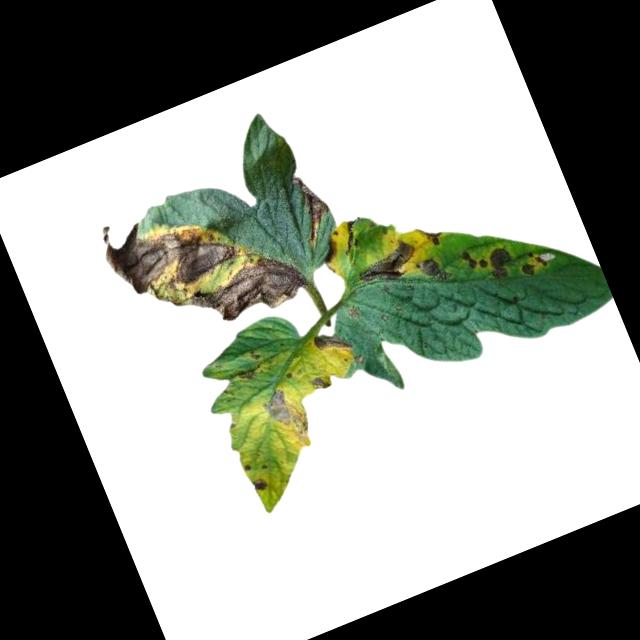Early_blight: (93, 179, 251, 306), (165, 237, 312, 345), (350, 233, 423, 292), (286, 169, 338, 244), (260, 380, 314, 445), (482, 241, 521, 284), (310, 322, 354, 360), (412, 248, 451, 288), (415, 216, 450, 252), (517, 244, 551, 278), (314, 234, 345, 267), (459, 243, 489, 275), (249, 471, 275, 497), (235, 361, 262, 386), (309, 371, 333, 391)
